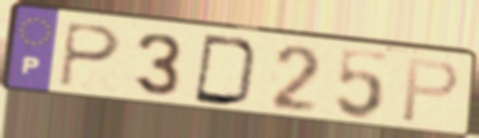2: (270, 43, 324, 116)
3: (130, 32, 188, 98)
5: (332, 45, 396, 123)
D: (191, 32, 262, 110)
P: (57, 20, 124, 90), (398, 56, 462, 125)
